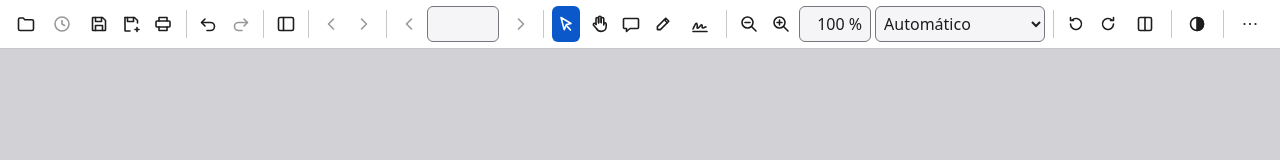
barra principal · deshacer › «Deshacer» está deshabilitado sin cambios y, tras añadir un resaltado, lo deshace al pulsarlo
This screenshot has width=1280, height=160.
Later steps or results of the test are not shown.
What coordinates should you click on to do the following:
click the button named "Deshacer añadir resaltado"
I would click on:
 (208, 24)
Its box is [194,6,223,42].
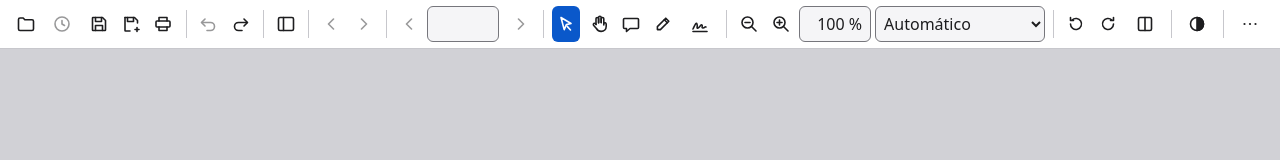
Result: the button named "Rehacer añadir resaltado" is enabled at [227,6,255,42]
